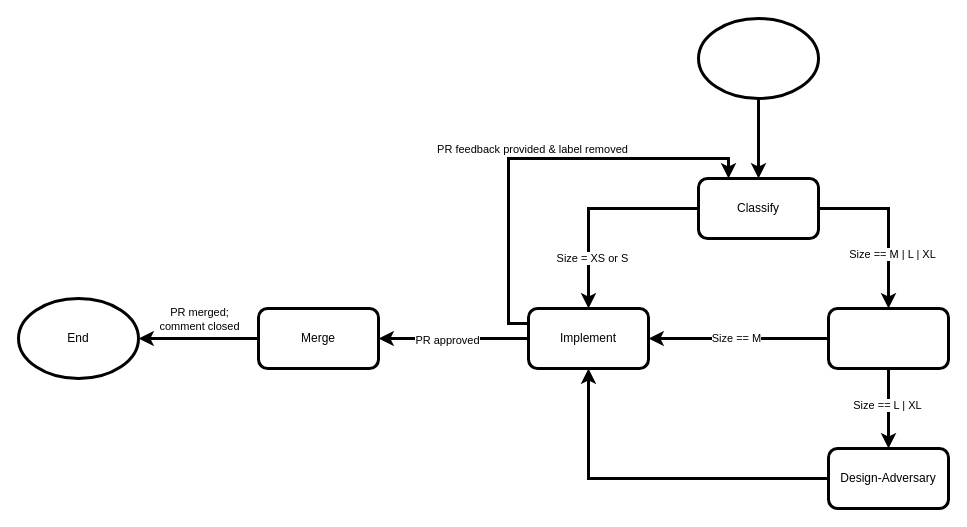
Image size: 967x527. Some labels were removed from this diagram. The centre of each missing label's shape, as x and y in pixels:
"Design" belongs at point (888, 338).
"Start" belongs at point (758, 58).
